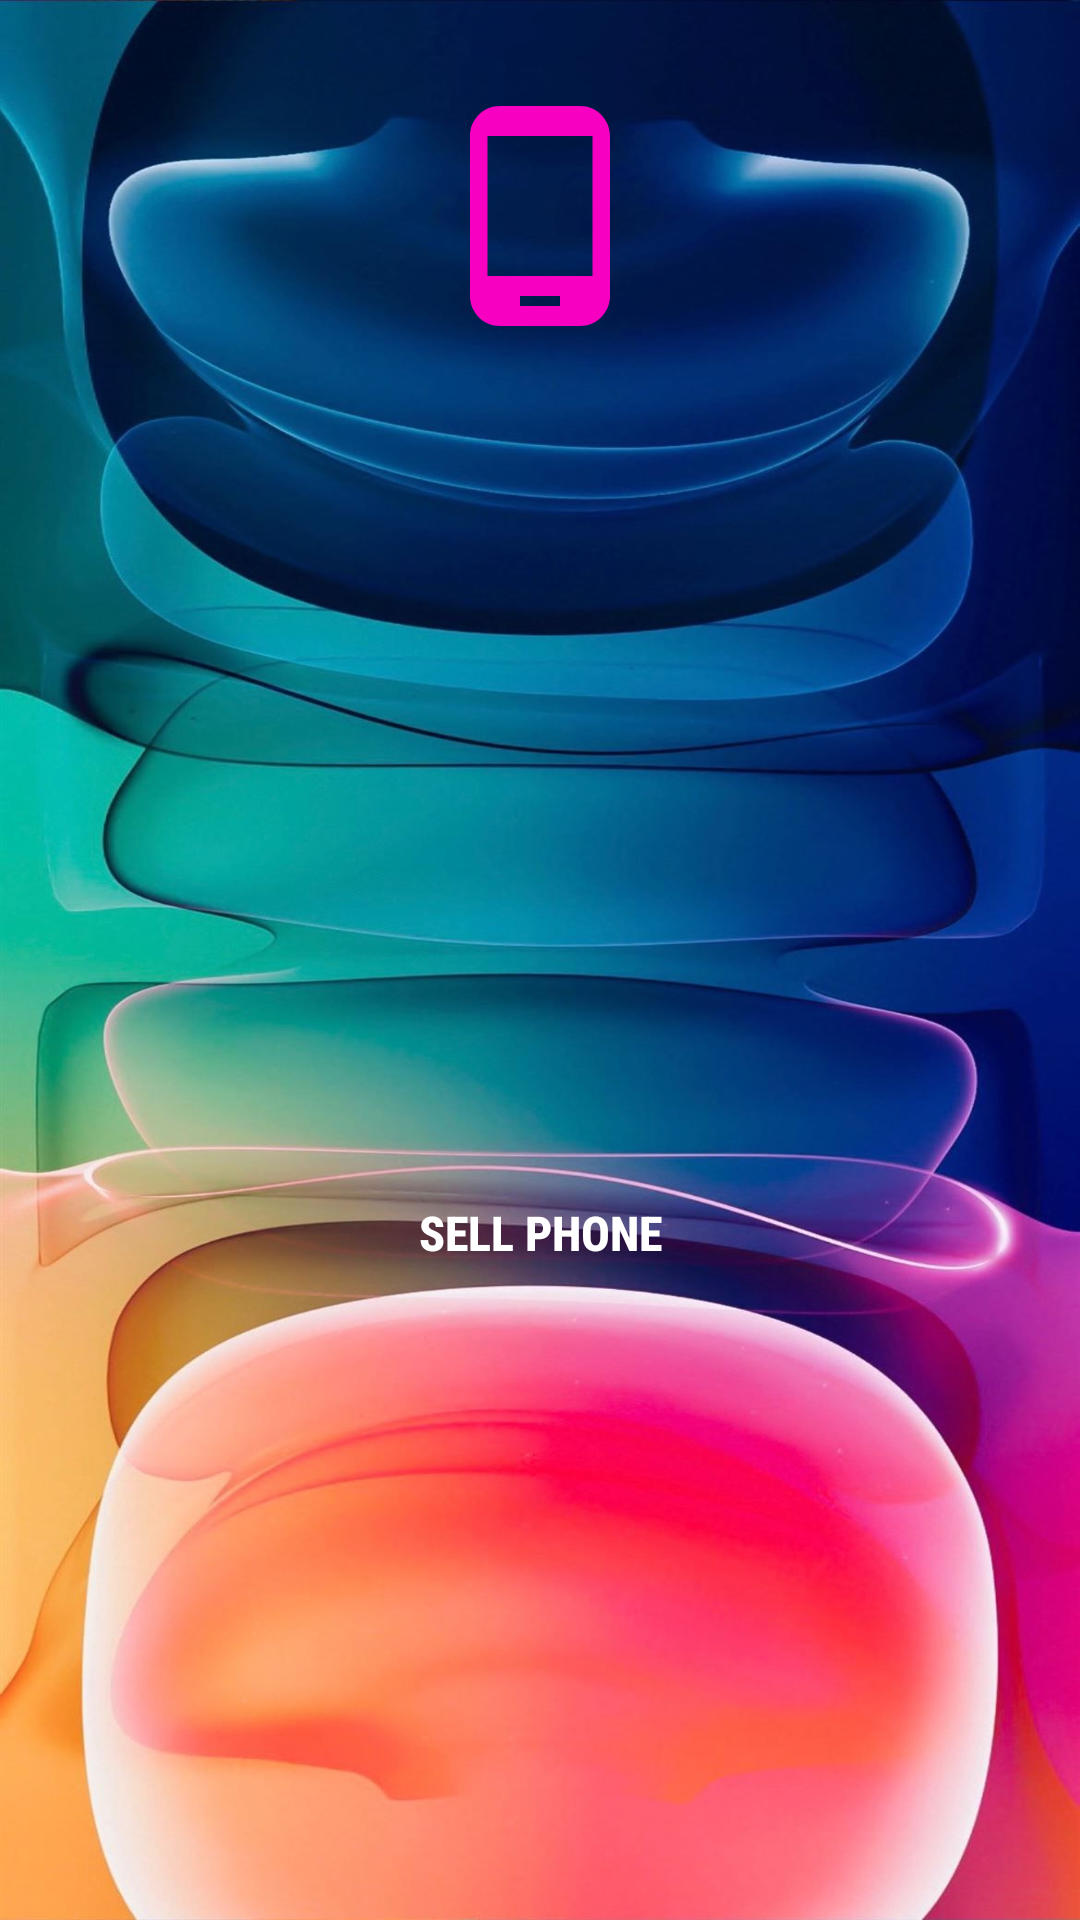

Icon click points for this 1080px x 1920px phone screenshot, format [x,y]:
phone: [540,216]
